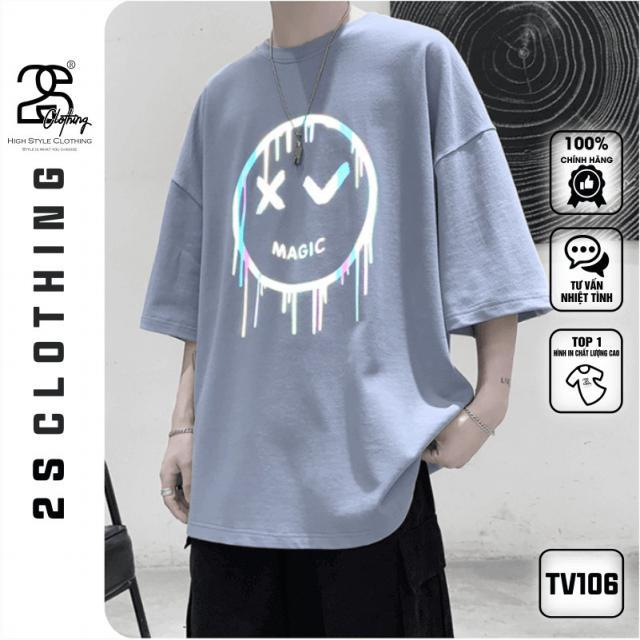Shirt: (140, 7, 556, 554)
